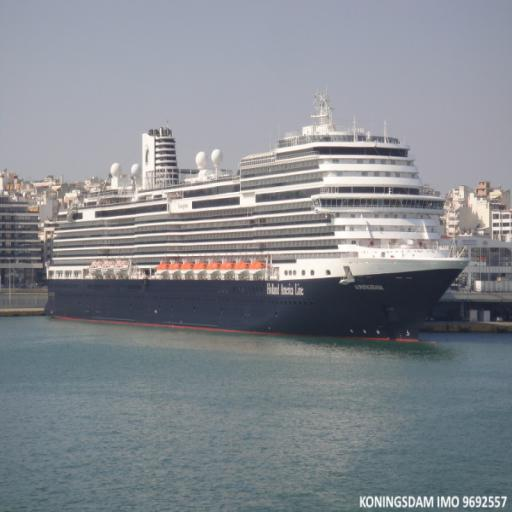cruises: (42, 93, 472, 354)
